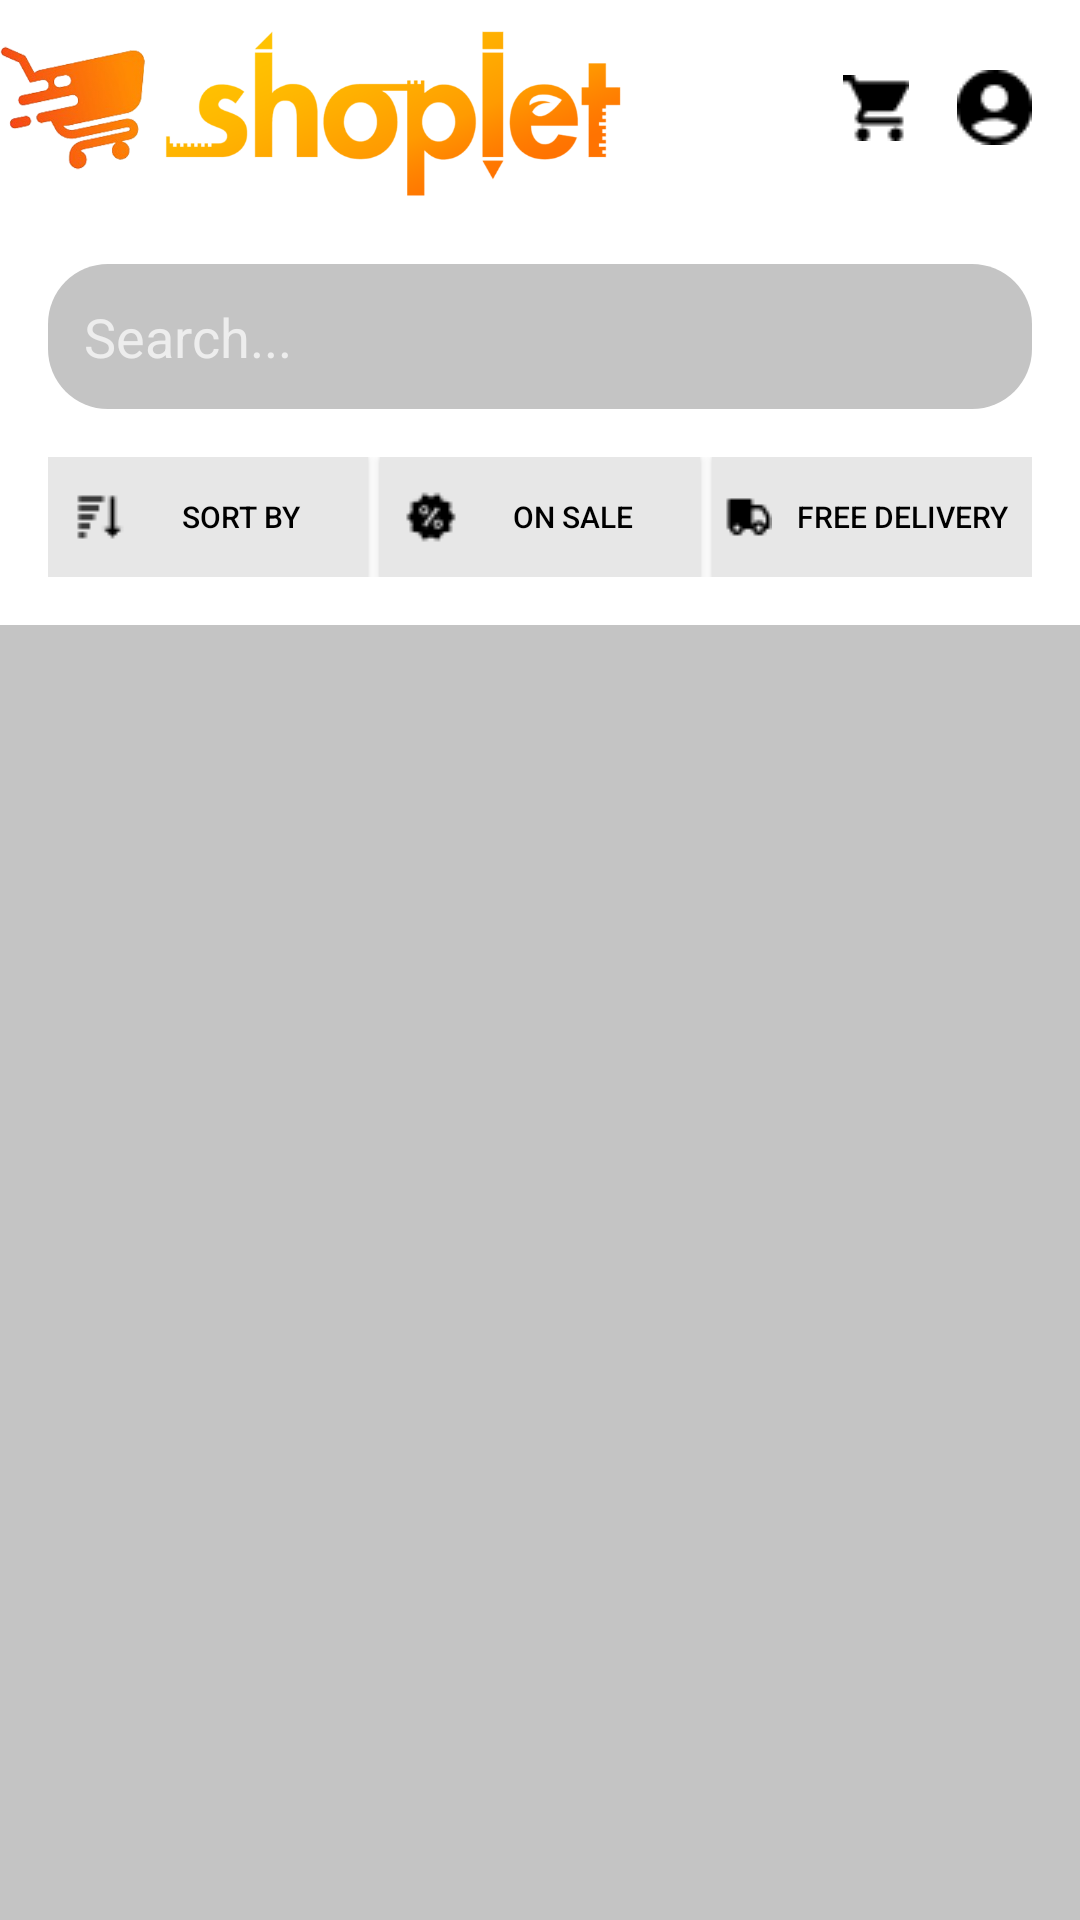

Named icons in this screenshot (1080*1920) and their centers, (x=x, y=y):
cart: (x=876, y=108)
profile: (x=994, y=107)
